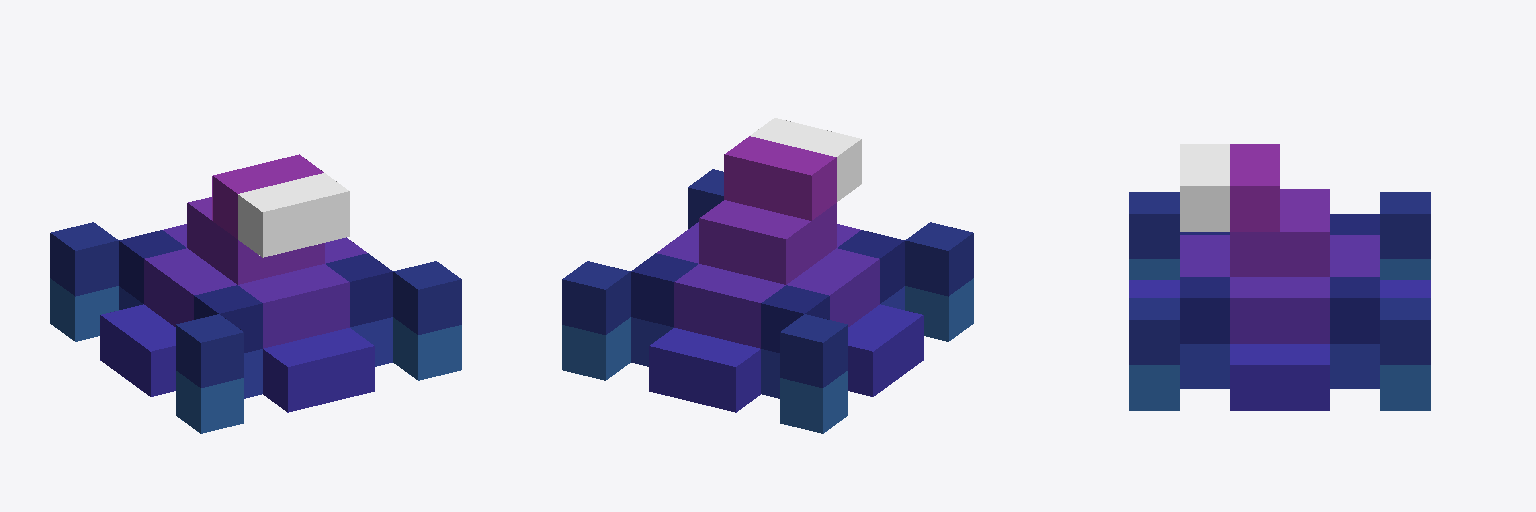
The picture shows the model from 3 angles: view 1: azimuth 30°, elevation 25°; view 2: azimuth 150°, elevation 25°; view 3: azimuth 270°, elevation 25°; orthographic projection.
Visible parts, largest first — view 1: AstromancerHat; view 2: AstromancerHat; view 3: AstromancerHat.
Part boxes in pixels (x1,y1,x2,y2): AstromancerHat: (50,154,461,433); AstromancerHat: (562,118,973,433); AstromancerHat: (1129,144,1430,410).
Bounding box in the file's own units: 6 × 4 × 6.
Materials: 1 (1 with a texture image).